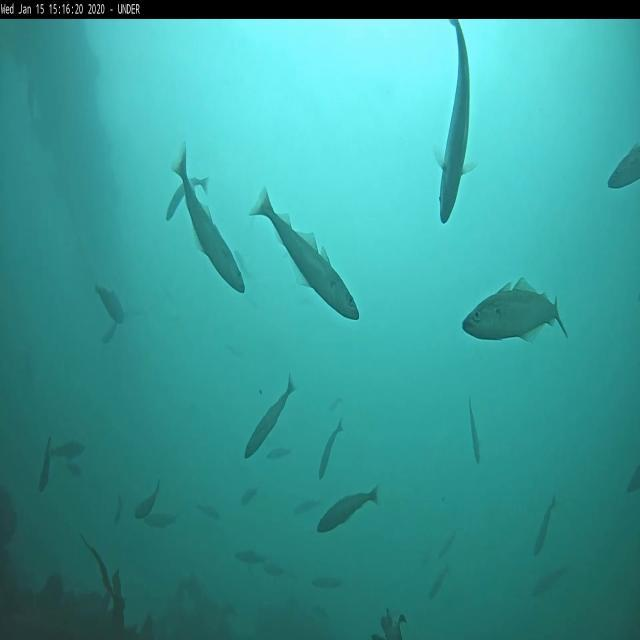fish: (251, 189, 364, 322), (176, 146, 246, 291), (436, 19, 478, 223), (461, 276, 568, 342), (245, 374, 299, 458), (316, 486, 380, 534), (318, 418, 344, 479), (606, 142, 639, 190), (534, 497, 556, 558), (532, 564, 570, 596), (94, 284, 125, 323), (134, 482, 160, 522), (468, 395, 482, 463), (50, 439, 84, 459), (426, 568, 448, 598), (438, 534, 458, 560), (144, 514, 176, 530), (292, 497, 320, 512), (101, 320, 117, 344), (198, 505, 222, 521), (240, 486, 258, 506), (264, 448, 294, 460), (235, 550, 265, 562), (311, 578, 343, 588), (264, 566, 288, 576)
